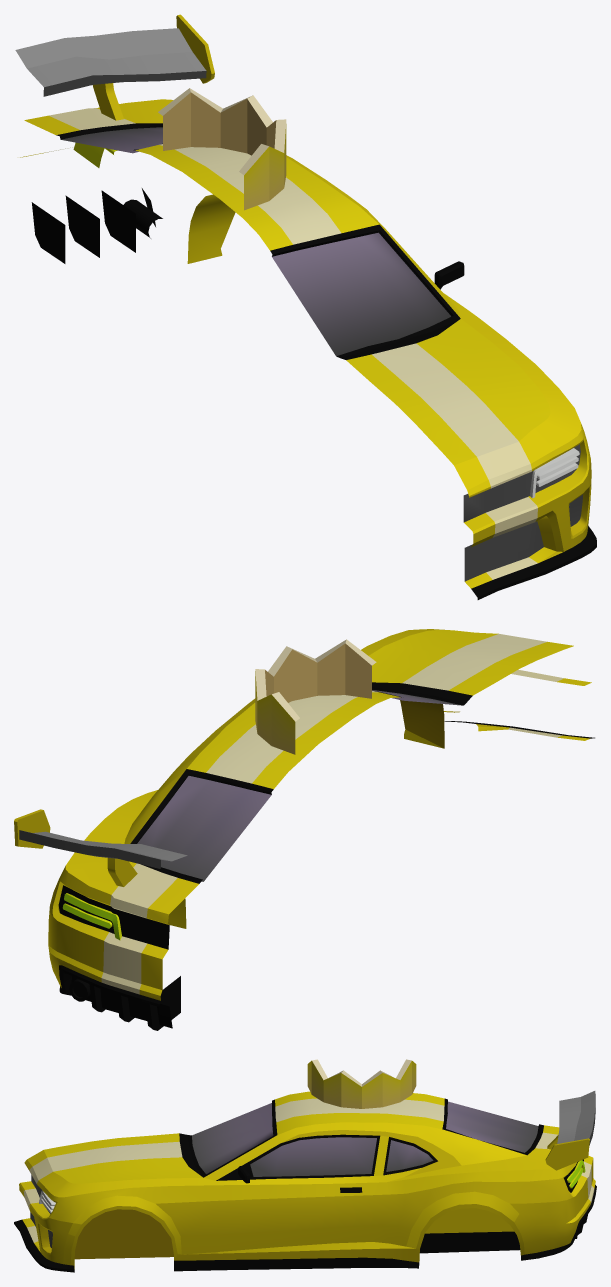
The model's file is car2.glb.
The picture shows the model from 3 angles, top to bottom: view 1: azimuth 30°, elevation 25°; view 2: azimuth 150°, elevation 25°; view 3: azimuth 270°, elevation 25°; orthographic projection. The views are drawn at different scales.
Parts seen in each view (by area): view 1: Car2; view 2: Car2; view 3: Car2.
Boxes of the visible parts, <box> form: Car2: <box>15,14,596,599</box>; Car2: <box>14,629,594,1030</box>; Car2: <box>14,1059,596,1272</box>.
Size of the model in its own units: 0.2528 by 0.3871 by 1.18.
